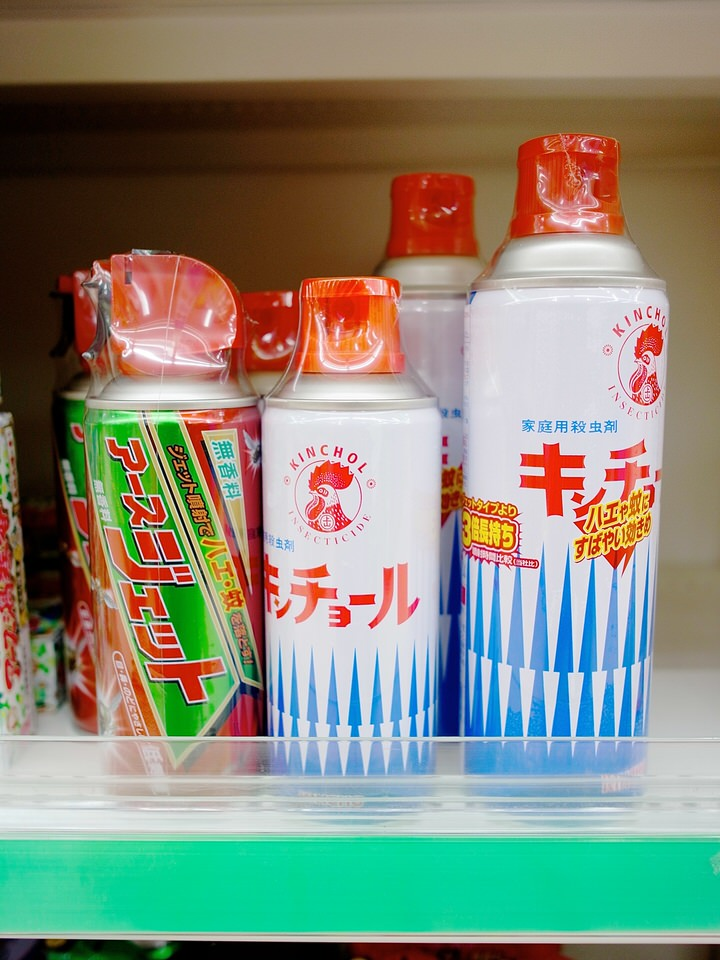Insecticide: (455, 131, 664, 806), (69, 240, 285, 788), (258, 268, 447, 793)
